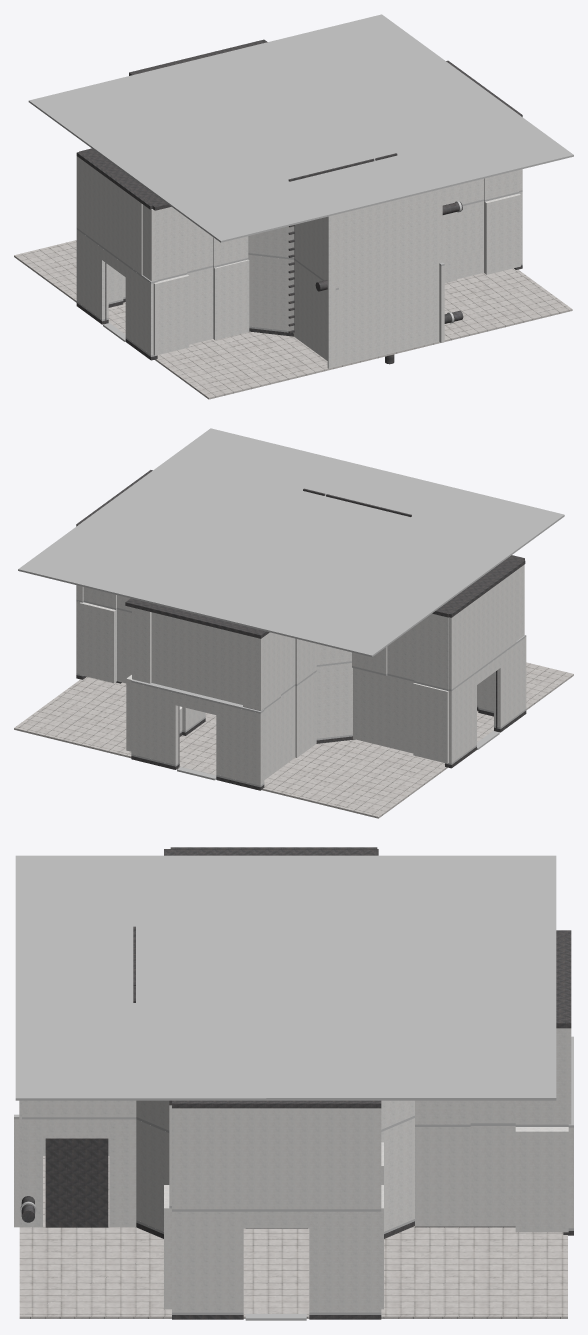
The model's file is scp_room_3way.dae.
The picture shows the model from 3 angles, top to bottom: view 1: azimuth 30°, elevation 25°; view 2: azimuth 150°, elevation 25°; view 3: azimuth 270°, elevation 25°; orthographic projection. The views are drawn at different scales.
Visible parts, largest first — view 1: SCP 3 Way.011, SCP 3 Way.006, SCP 3 Way.012, SCP 3 Way.002, SCP 3 Way.001, SCP 3 Way.013; view 2: SCP 3 Way.011, SCP 3 Way.006, SCP 3 Way.012, SCP 3 Way.002, SCP 3 Way.001; view 3: SCP 3 Way.011, SCP 3 Way.006, SCP 3 Way.012, SCP 3 Way.002, SCP 3 Way.001.
Part boxes in pixels (x1=…): SCP 3 Way.011: x1=28, y1=14, x2=573, y2=242; SCP 3 Way.006: x1=76, y1=156, x2=522, y2=368; SCP 3 Way.012: x1=14, y1=240, x2=572, y2=399; SCP 3 Way.002: x1=76, y1=39, x2=522, y2=360; SCP 3 Way.001: x1=76, y1=190, x2=522, y2=356; SCP 3 Way.013: x1=315, y1=202, x2=463, y2=364; SCP 3 Way.011: x1=18, y1=428, x2=564, y2=656; SCP 3 Way.006: x1=76, y1=564, x2=526, y2=785; SCP 3 Way.012: x1=14, y1=662, x2=573, y2=818; SCP 3 Way.002: x1=76, y1=470, x2=526, y2=790; SCP 3 Way.001: x1=76, y1=599, x2=526, y2=787; SCP 3 Way.011: x1=15, y1=855, x2=556, y2=1100; SCP 3 Way.006: x1=14, y1=1028, x2=573, y2=1312; SCP 3 Way.012: x1=19, y1=1156, x2=567, y2=1318; SCP 3 Way.002: x1=45, y1=847, x2=573, y2=1319; SCP 3 Way.001: x1=14, y1=1036, x2=573, y2=1314.
Bounding box in the file's own units: 45.75 × 42.26 × 19.94.
